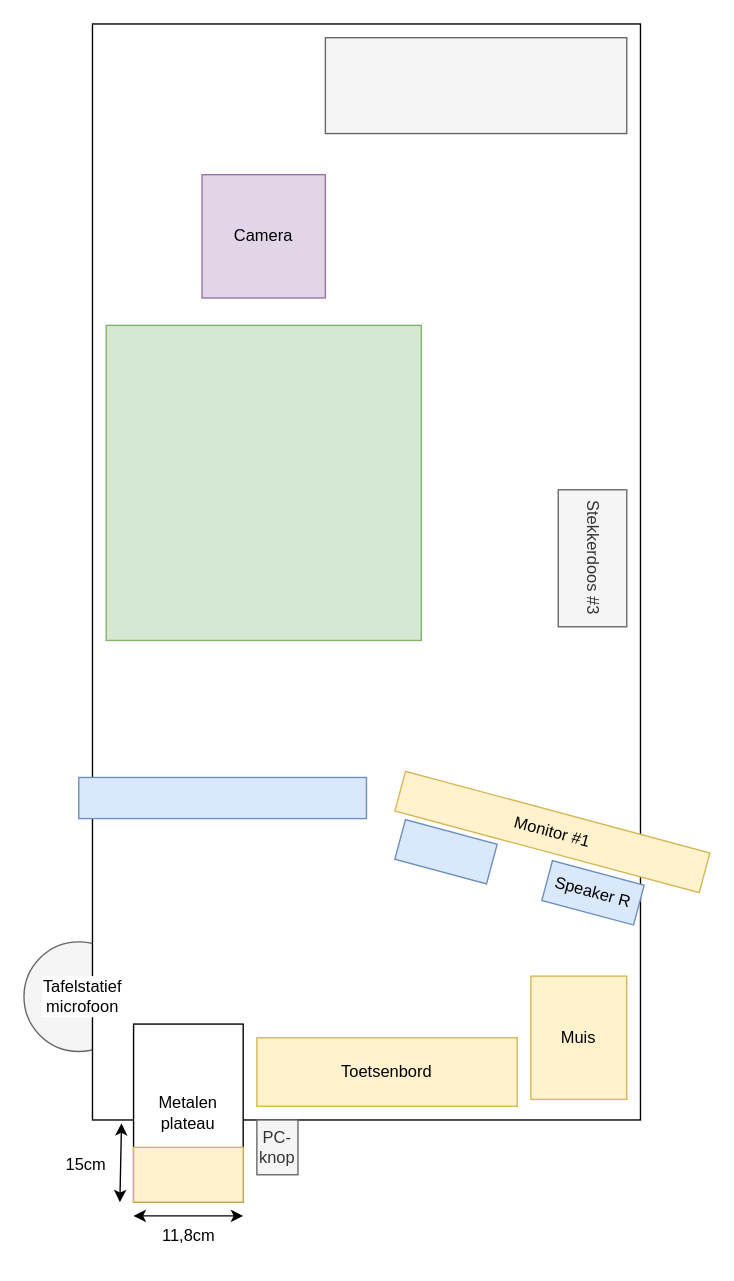
Some shapes in this 734 by 1281 pixel diagram are drawn without their labels. Each missing label, with the centre of its shape:
"Lamp 1" belongs at pixel 475 85.
"Monitor #2" belongs at pixel 221 797.
"Speaker L" belongs at pixel 445 851.
"Stream Deck" belongs at pixel 187 1174.
"Teleprompter op statief met statiefplaatverhoger" belongs at pixel 263 482.
